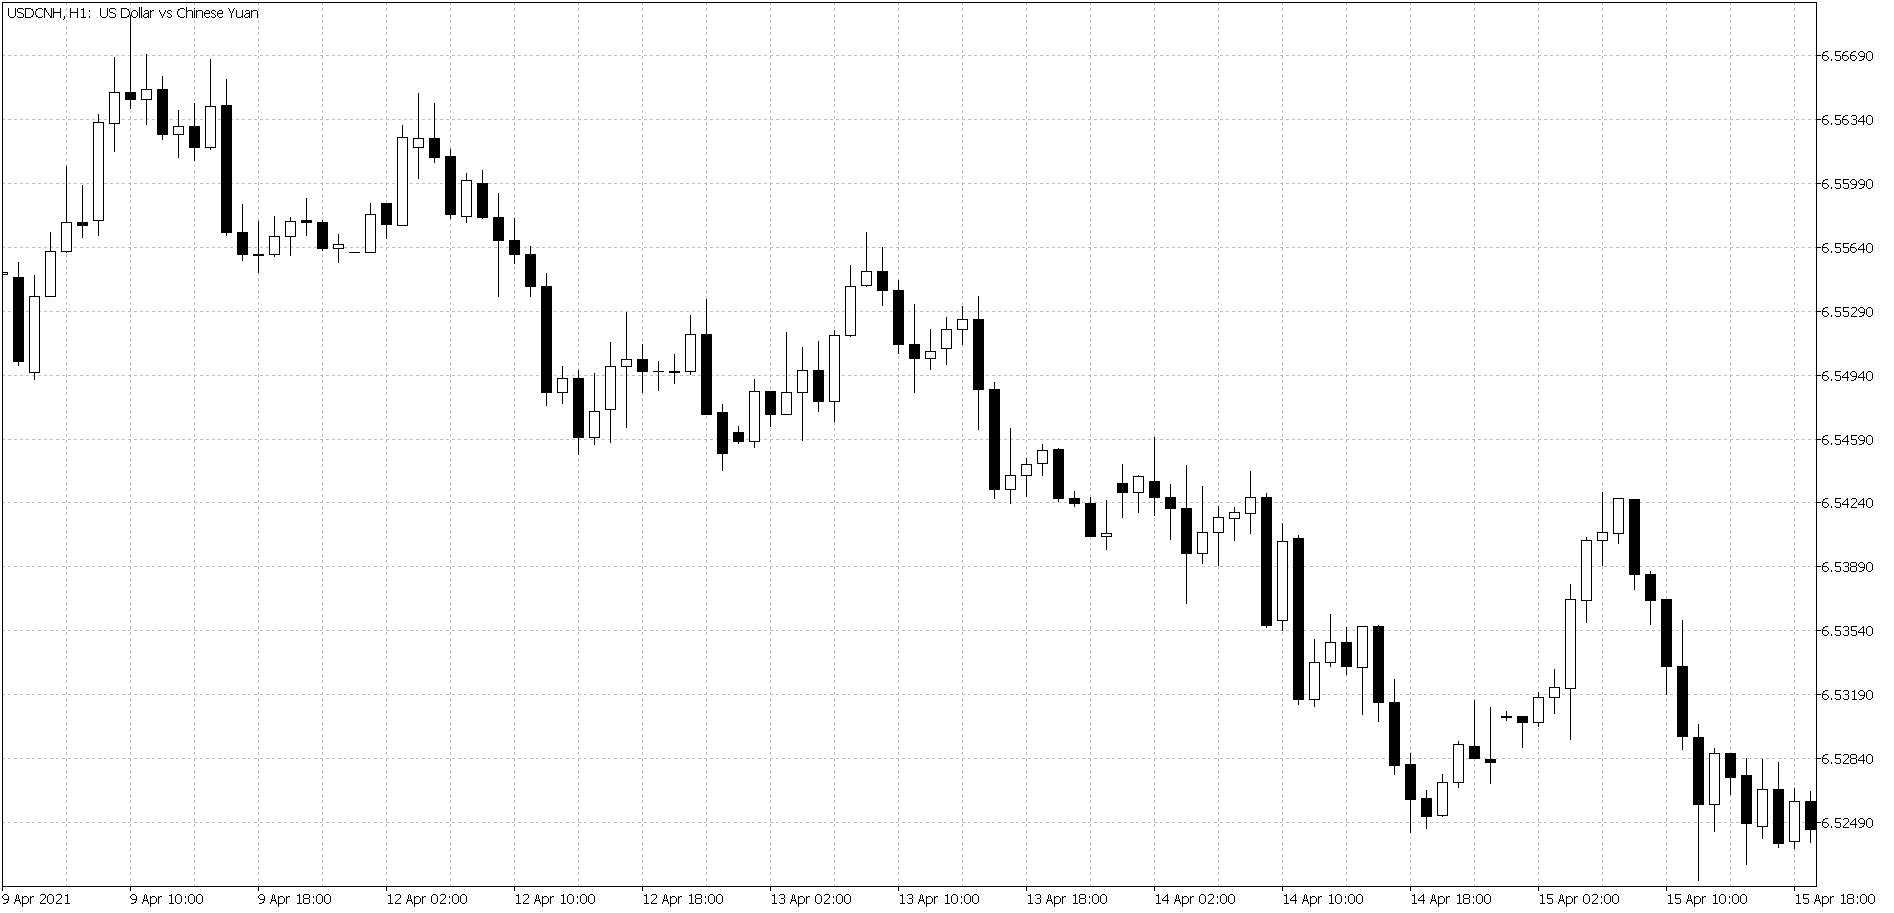3blackcrows: (1627, 490, 1675, 700)
3whitesoldiers: (1003, 434, 1048, 514), (924, 307, 969, 374)
bullishEngulfing: (1418, 770, 1451, 827)
morningDojiStar: (237, 200, 281, 289)
